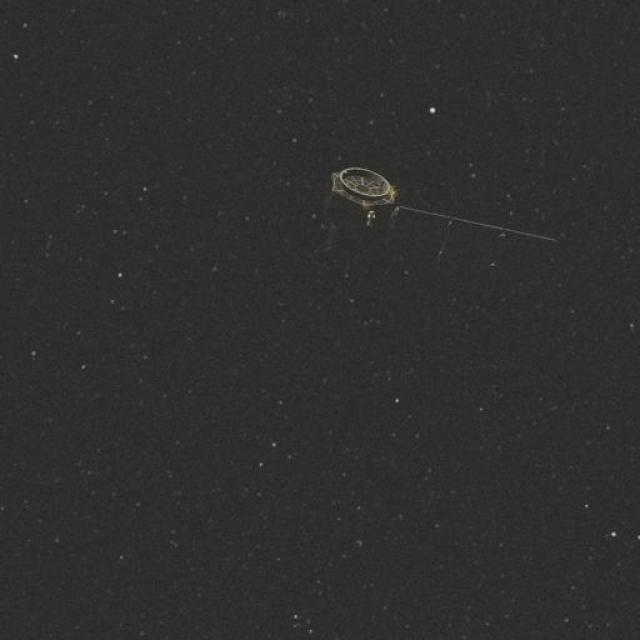earth_observation_sat_1: (301, 154, 575, 307)
